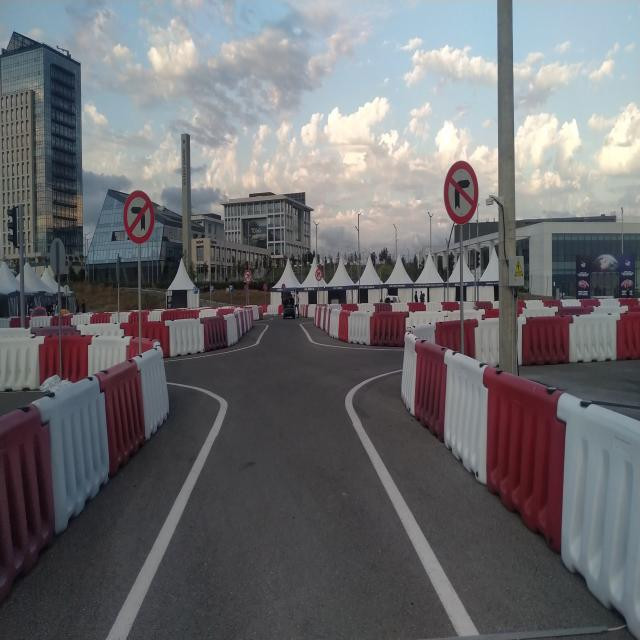forb_stopping: (263, 284, 268, 292), (245, 284, 249, 292), (282, 284, 286, 291)
